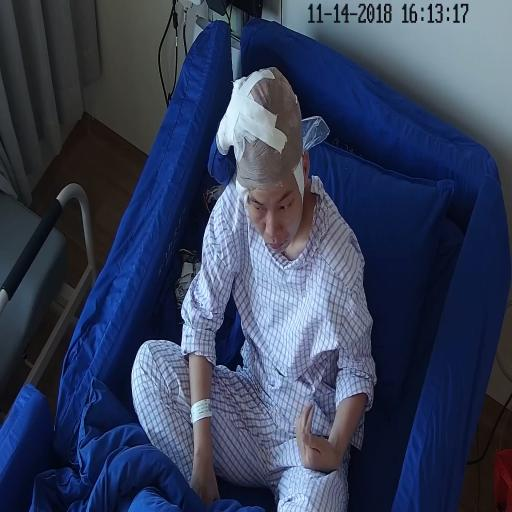Seizure: (239, 122, 308, 254)
